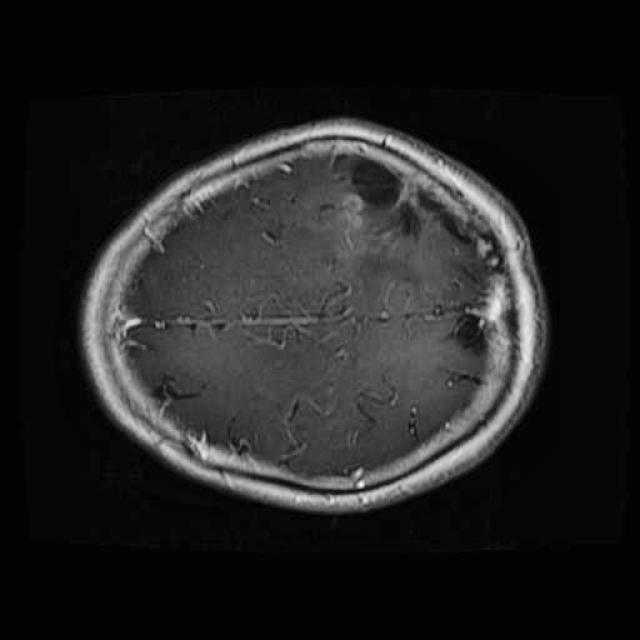Non-Tumor: (318, 141, 491, 311)
